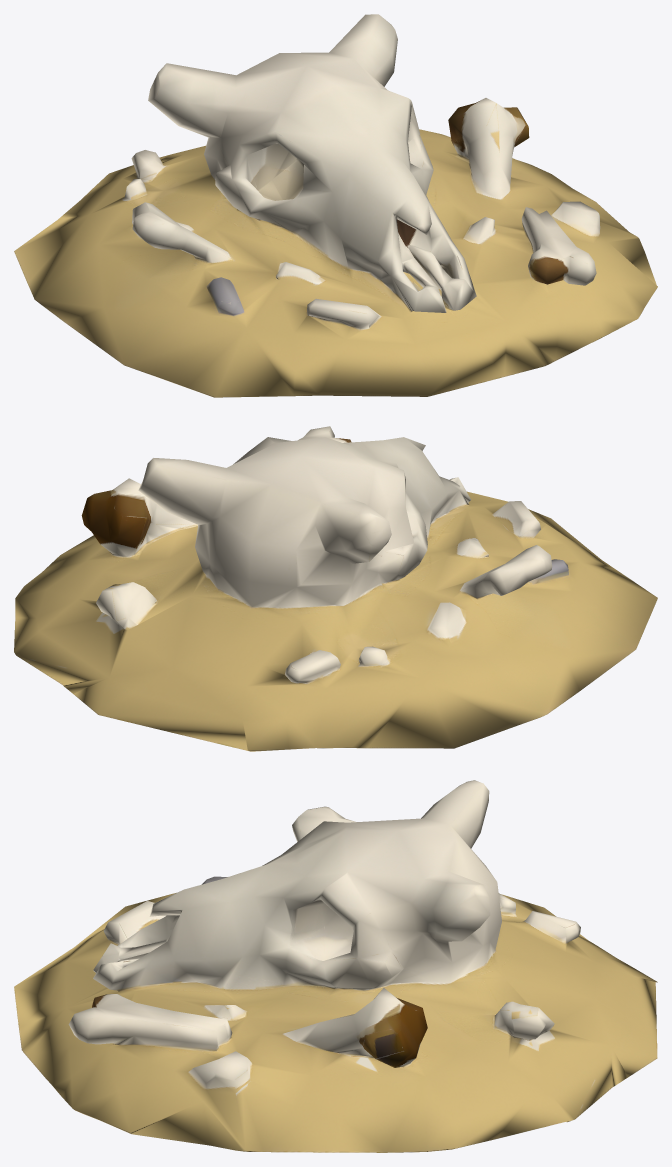
File: irrhakur_skull_2.glb
The picture shows the model from 3 angles, top to bottom: view 1: azimuth 30°, elevation 25°; view 2: azimuth 150°, elevation 25°; view 3: azimuth 270°, elevation 25°; orthographic projection. The views are drawn at different scales.
Visible parts, largest first — view 1: Mesh_0; view 2: Mesh_0; view 3: Mesh_0.
Part boxes in pixels (left/top/right/bottom): Mesh_0: left=14, top=14, right=657, bottom=397; Mesh_0: left=14, top=426, right=657, bottom=751; Mesh_0: left=14, top=780, right=657, bottom=1152.
Size of the model in its own units: 1.86 by 0.6221 by 1.91.
1 material, 1 textured.
